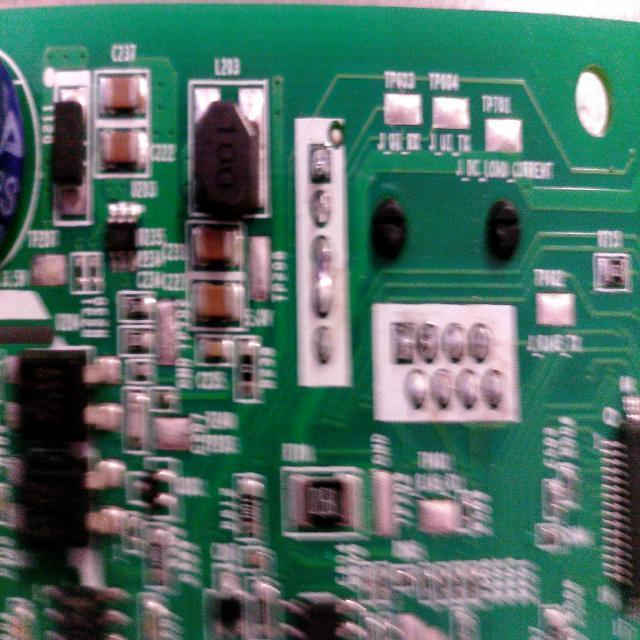Soldering shorted: (314, 234, 332, 317)
